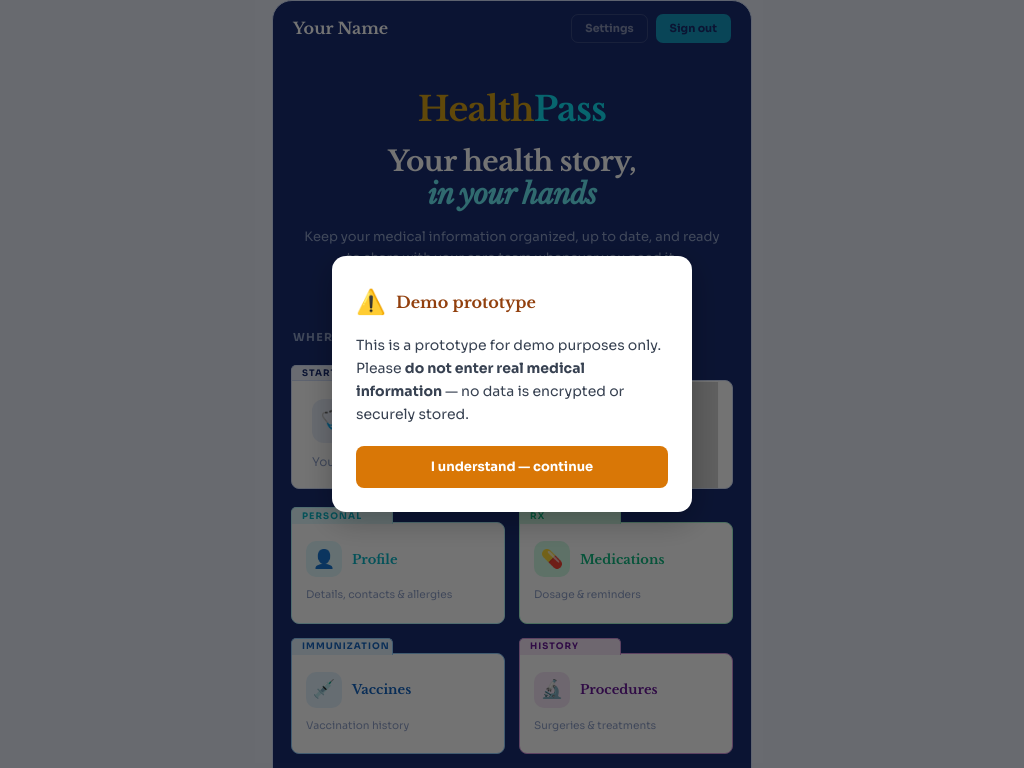
it: LandingPage — disclaimer modal › dismisses the modal on acknowledge
The image size is (1024, 768).
Click the button "I understand — continue": [512, 467] box [356,446,668,488]
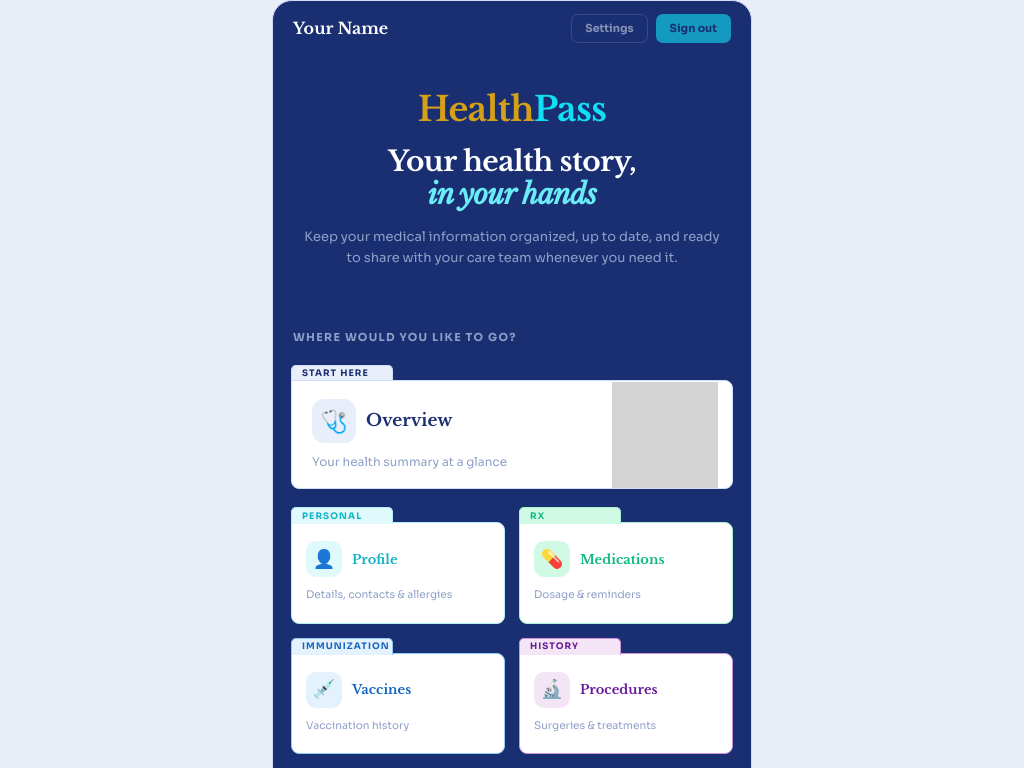
Check: the button "I understand" is gone
